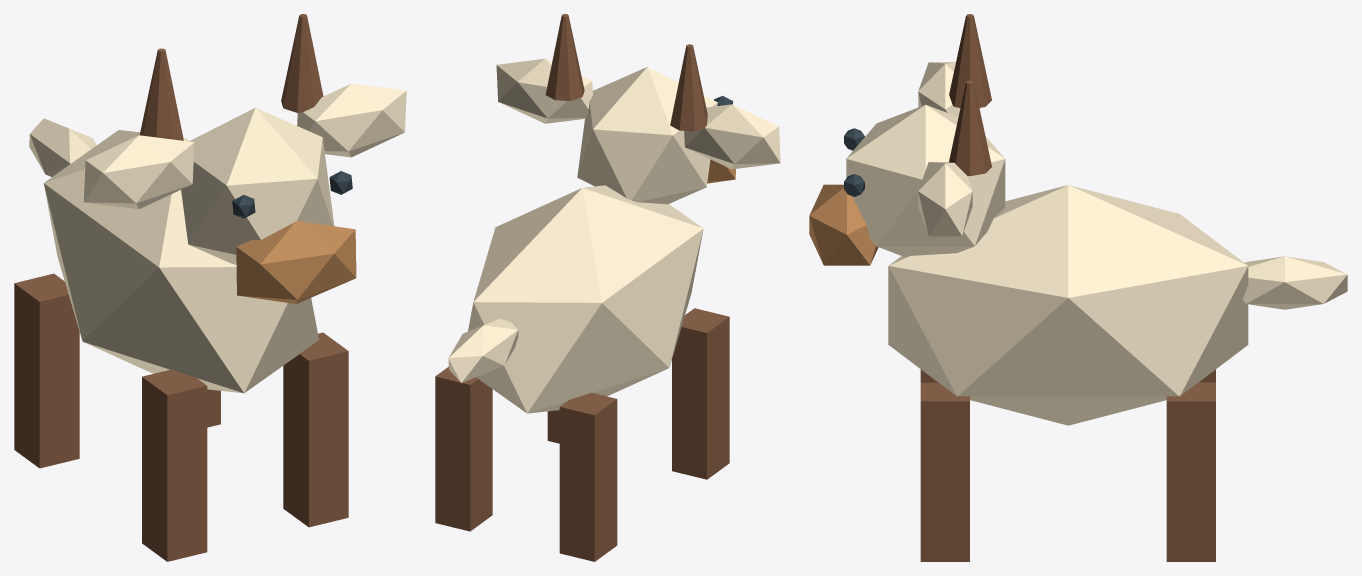
The model's file is goat_kid.glb.
3 renders of one model, left to right at view 1: azimuth 30°, elevation 25°; view 2: azimuth 150°, elevation 25°; view 3: azimuth 270°, elevation 25°, orthographic. The views are drawn at different scales.
Visible parts, largest first — view 1: body_bob, head_peck, leg, leg.001, leg.002, muzzle, ear, ear.001, horn.001, horn, tail, leg.003; view 2: body_bob, head_peck, leg.001, leg, leg.003, ear, ear.001, tail, horn.001, horn, muzzle; view 3: body_bob, head_peck, leg.002, leg.003, tail, muzzle, ear.001, horn.001, horn, ear.
Boxes of the visible parts, left/top/right/bottom form: body_bob: left=43, top=130, right=318, bottom=393; head_peck: left=181, top=107, right=334, bottom=264; leg: left=142, top=369, right=207, bottom=561; leg.001: left=14, top=273, right=79, bottom=468; leg.002: left=283, top=332, right=348, bottom=527; muzzle: left=236, top=221, right=356, bottom=303; ear: left=83, top=135, right=194, bottom=209; ear.001: left=297, top=83, right=406, bottom=157; horn.001: left=281, top=14, right=323, bottom=112; horn: left=139, top=48, right=183, bottom=140; tail: left=29, top=118, right=96, bottom=176; leg.003: left=207, top=389, right=220, bottom=427; body_bob: left=468, top=185, right=703, bottom=413; head_peck: left=577, top=67, right=717, bottom=204; leg.001: left=559, top=392, right=617, bottom=561; leg: left=672, top=308, right=729, bottom=479; leg.003: left=435, top=366, right=492, bottom=531; ear: left=684, top=104, right=780, bottom=169; ear.001: left=496, top=58, right=592, bottom=123; tail: left=448, top=318, right=518, bottom=382; horn.001: left=545, top=14, right=584, bottom=100; horn: left=670, top=44, right=707, bottom=131; muzzle: left=707, top=159, right=735, bottom=183; body_bob: left=888, top=185, right=1248, bottom=425; head_peck: left=846, top=104, right=1005, bottom=257; leg.002: left=920, top=382, right=969, bottom=561; leg.003: left=1166, top=382, right=1215, bottom=561; tail: left=1242, top=256, right=1347, bottom=309; muzzle: left=809, top=184, right=878, bottom=265; ear.001: left=918, top=162, right=972, bottom=236; horn.001: left=949, top=80, right=991, bottom=176; horn: left=949, top=14, right=991, bottom=107; ear: left=918, top=62, right=960, bottom=116.
Size of the model in its own units: 0.7304 by 1.05 by 1.09.
